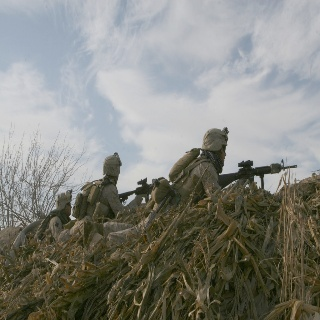rifle: (215, 159, 299, 194), (111, 175, 154, 203)
